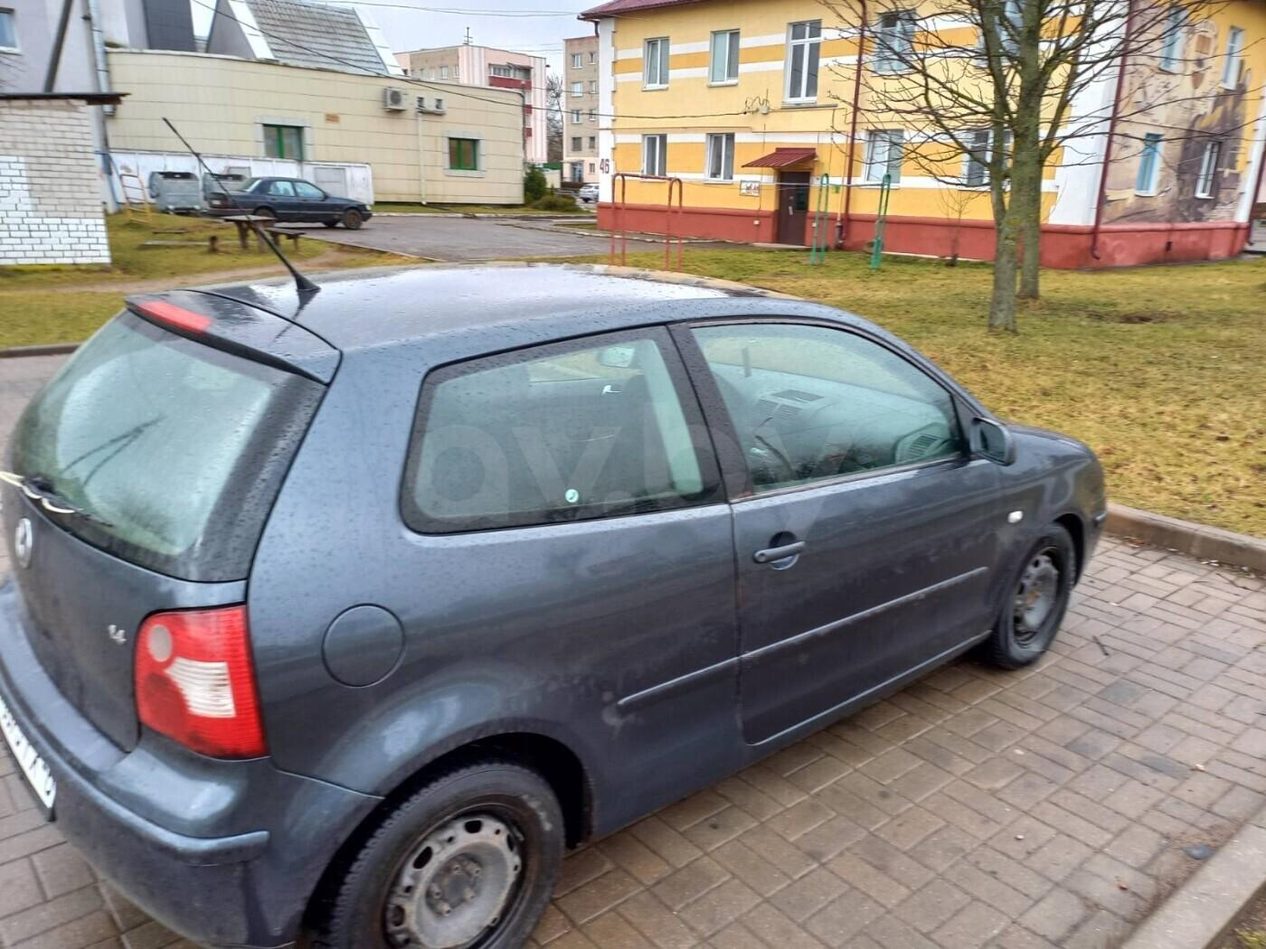Polo_2001-2005: (0, 257, 1103, 945)
